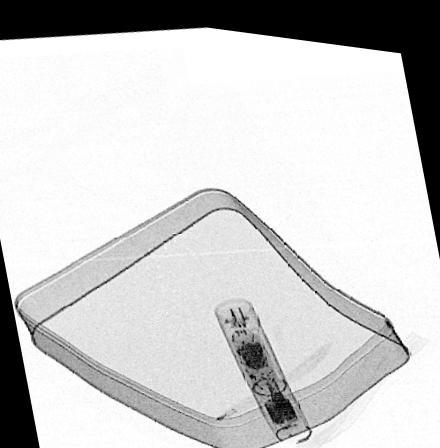Baton: (210, 290, 311, 437)
